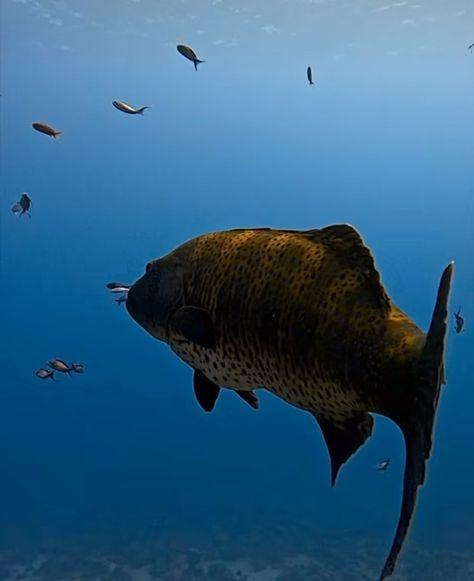fish: (107, 222, 459, 580), (176, 43, 206, 71), (111, 99, 149, 115), (31, 121, 62, 139), (48, 360, 72, 376), (453, 304, 464, 333), (20, 193, 31, 218), (36, 369, 55, 381), (307, 66, 315, 86), (71, 363, 85, 374), (12, 202, 21, 218)
